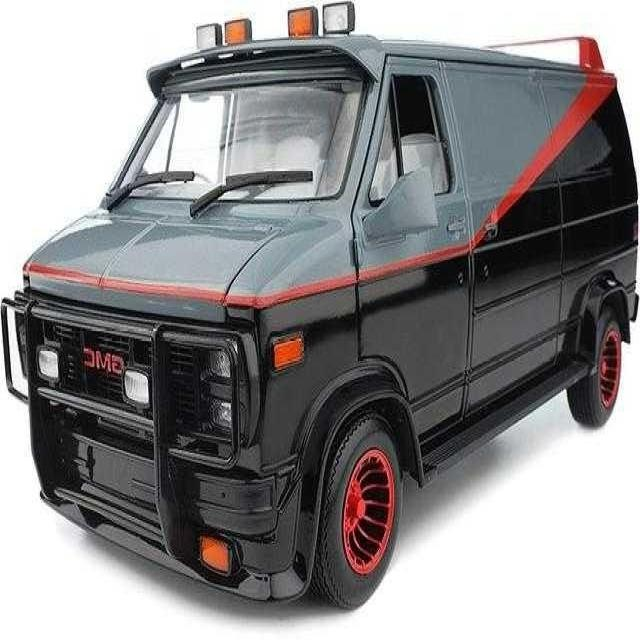Car: (6, 11, 634, 615)
